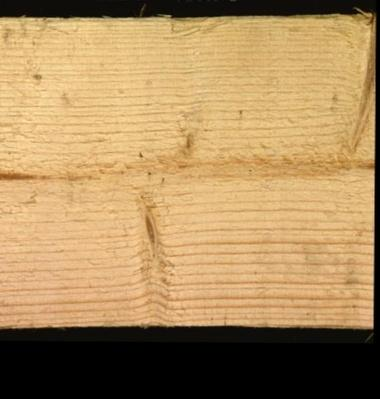small_knot: (178, 125, 203, 152)
